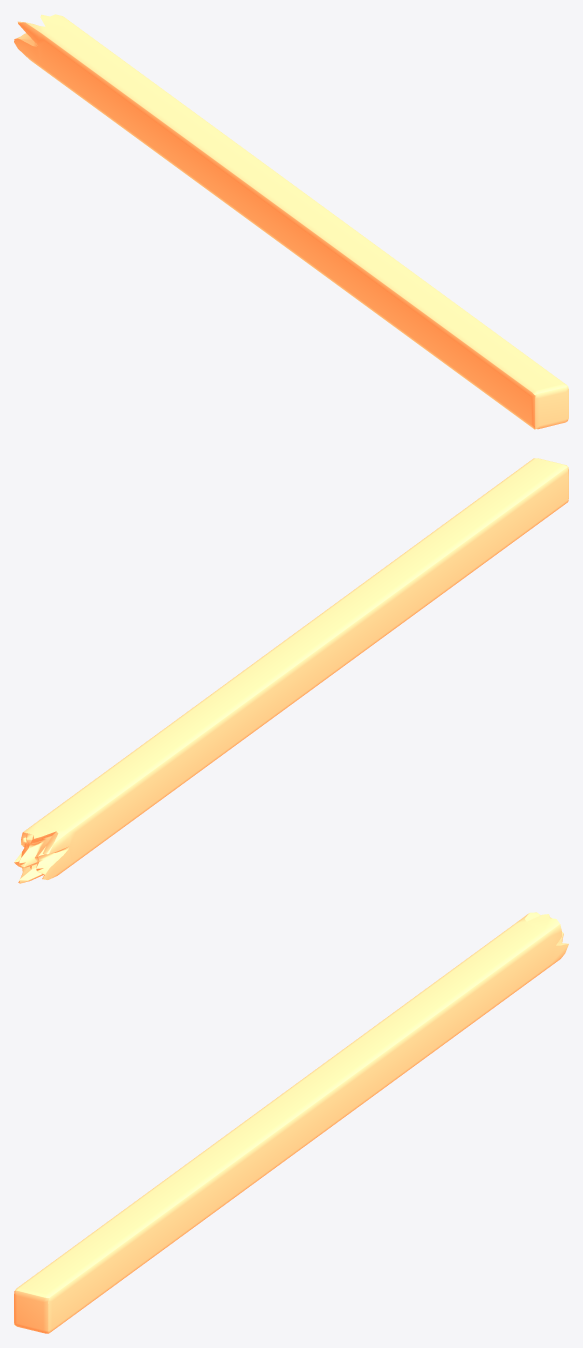
The model's file is SM_Rudder04.fbx.
The picture shows the model from 3 angles, top to bottom: view 1: azimuth 30°, elevation 25°; view 2: azimuth 150°, elevation 25°; view 3: azimuth 330°, elevation 25°; orthographic projection.
Parts seen in each view (by area): view 1: SM_Rudder04_LOD0; view 2: SM_Rudder04_LOD0; view 3: SM_Rudder04_LOD0.
Boxes of the visible parts, x1,y1,x2,y2 form: SM_Rudder04_LOD0: [14, 14, 568, 429]; SM_Rudder04_LOD0: [14, 458, 568, 883]; SM_Rudder04_LOD0: [14, 912, 568, 1333].
Bounding box in the file's own units: 50.5 × 1219 × 50.67.
